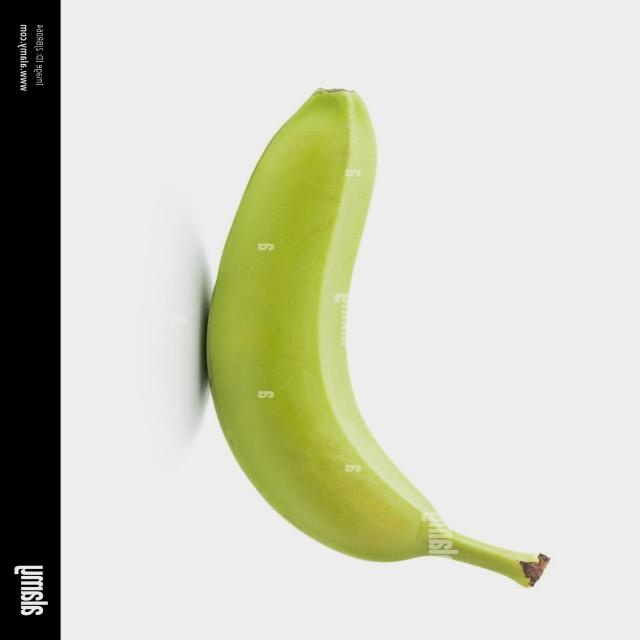agrume: (198, 84, 550, 584)
